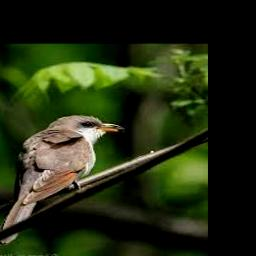Cuckoo: (0, 115, 124, 246)
